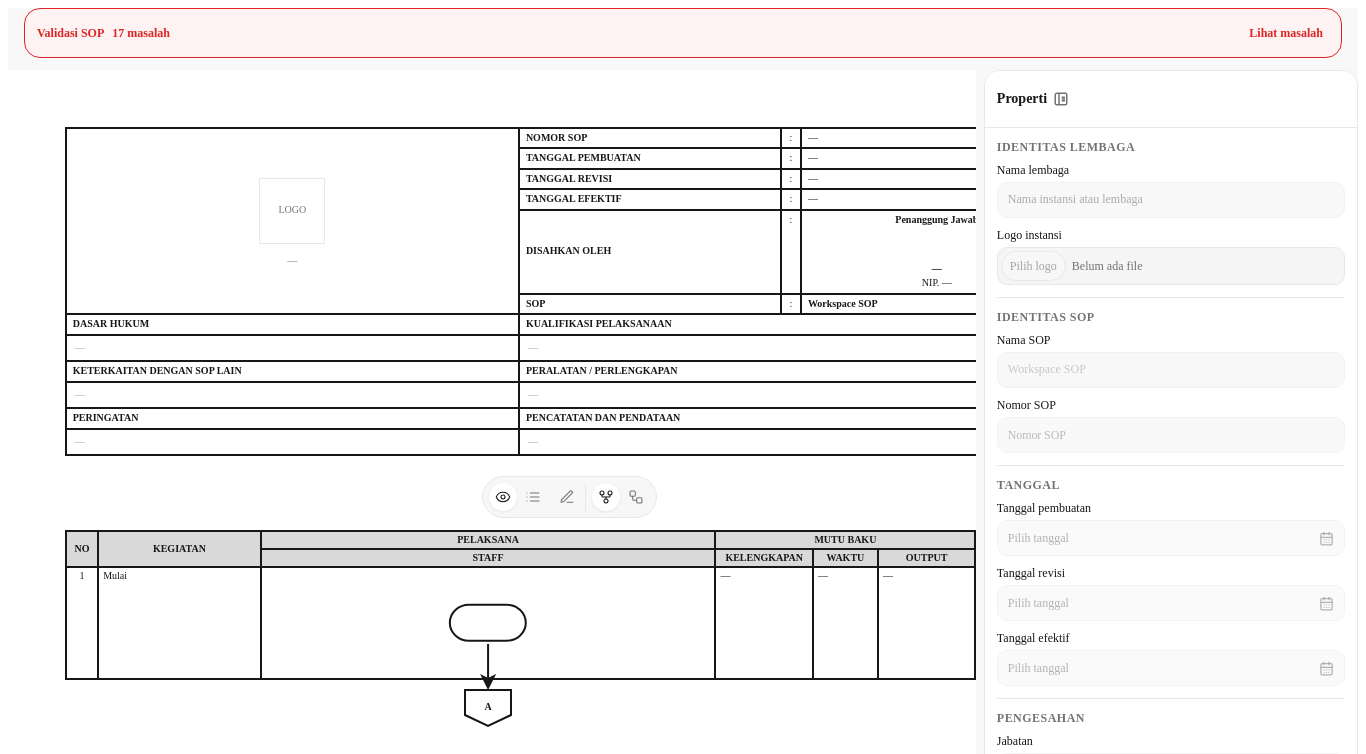
Test: SopWorkspace › opens the step editor inside the document
Click the button named "Edit langkah". click: coordinates (533, 497)
box: x1=519 y1=483 x2=547 y2=511
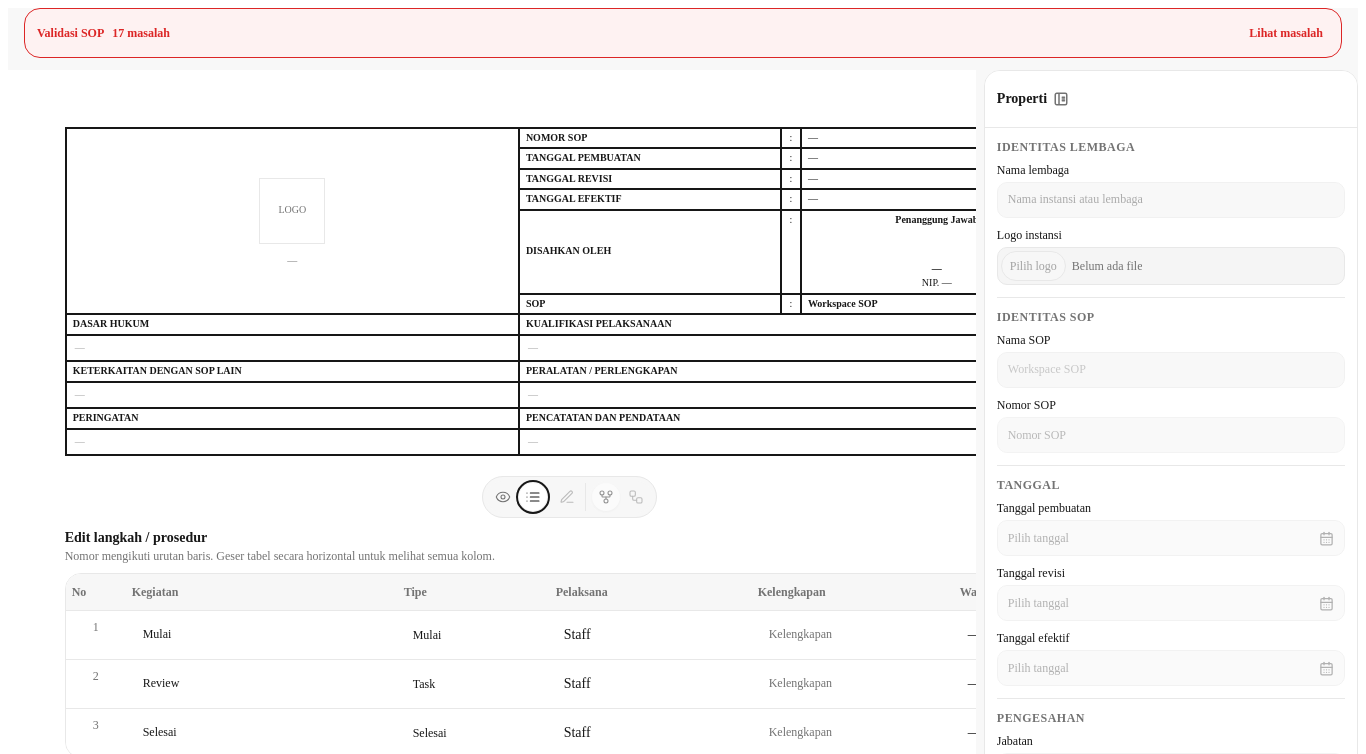
Result: the text box showing "Review" next to "Task" is shown at x1=132 y1=666 x2=392 y2=702
